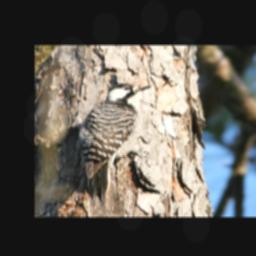Woodpecker: (77, 83, 152, 206)
